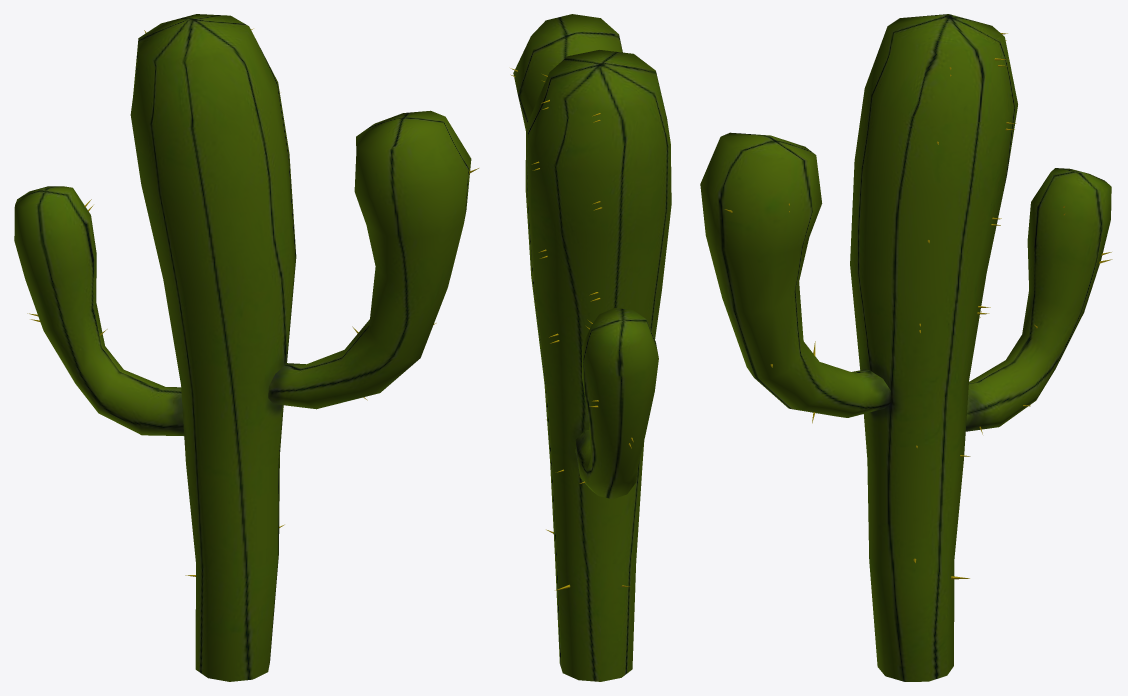
File: Cactus.glb
3 renders of one model, left to right at view 1: azimuth 30°, elevation 25°; view 2: azimuth 150°, elevation 25°; view 3: azimuth 270°, elevation 25°, orthographic. The views are drawn at different scales.
Parts seen in each view (by area): view 1: Cactus_uv:Group5; view 2: Cactus_uv:Group5; view 3: Cactus_uv:Group5.
Part boxes in pixels (x1=…): Cactus_uv:Group5: x1=14, y1=14, x2=471, y2=681; Cactus_uv:Group5: x1=513, y1=14, x2=671, y2=681; Cactus_uv:Group5: x1=700, y1=14, x2=1111, y2=681.
Bounding box in the file's own units: 0.0127 × 0.027 × 0.0158.
Materials: 2 (1 with a texture image).
